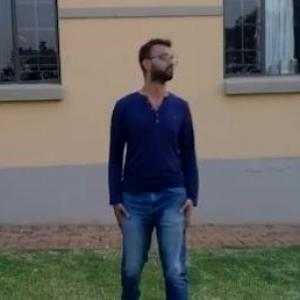follow: (101, 17, 209, 299)
